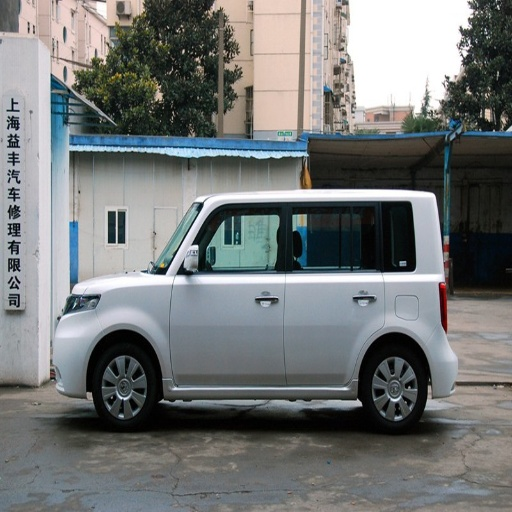back_left_door: (286, 203, 386, 385)
front_left_door: (171, 204, 286, 385)
